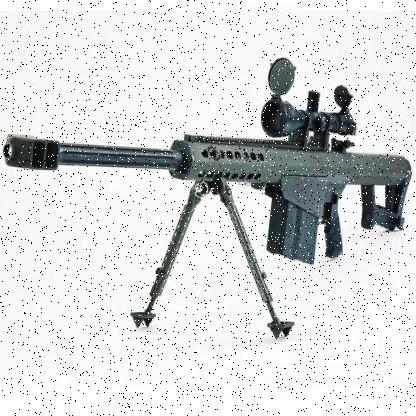rifle: (1, 55, 413, 359)
